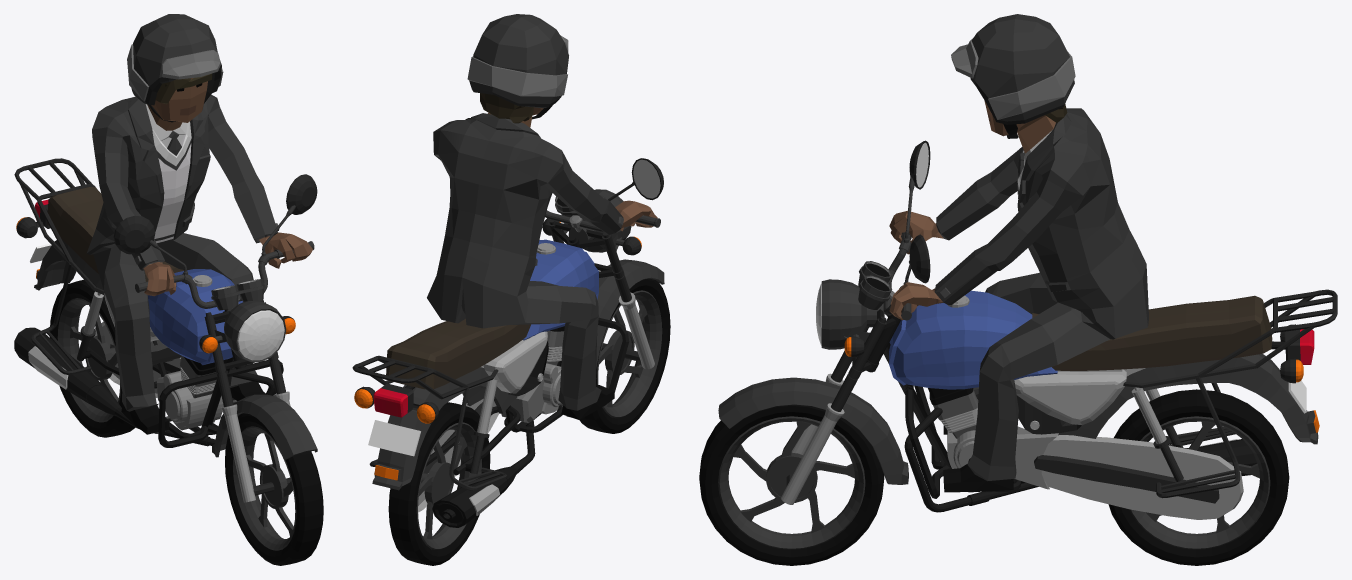
Rendered from two-wheeler-with-person.glb.
The picture shows the model from 3 angles, left to right: view 1: azimuth 30°, elevation 25°; view 2: azimuth 150°, elevation 25°; view 3: azimuth 270°, elevation 25°; orthographic projection. The views are drawn at different scales.
Parts seen in each view (by area): view 1: two-wheeler-with-person; view 2: two-wheeler-with-person; view 3: two-wheeler-with-person.
Part boxes in pixels (x1,y1,x2,y2): two-wheeler-with-person: (14,14,323,565); two-wheeler-with-person: (352,14,670,565); two-wheeler-with-person: (699,14,1337,565).
Bounding box in the file's own units: 0.8675 × 1.93 × 2.06.
Materials: 2 (1 with a texture image).
